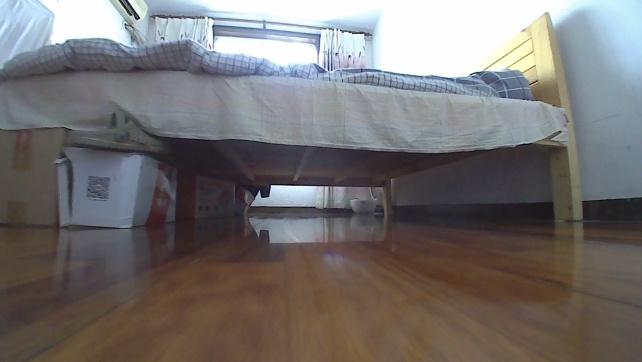bed: (0, 5, 590, 227)
